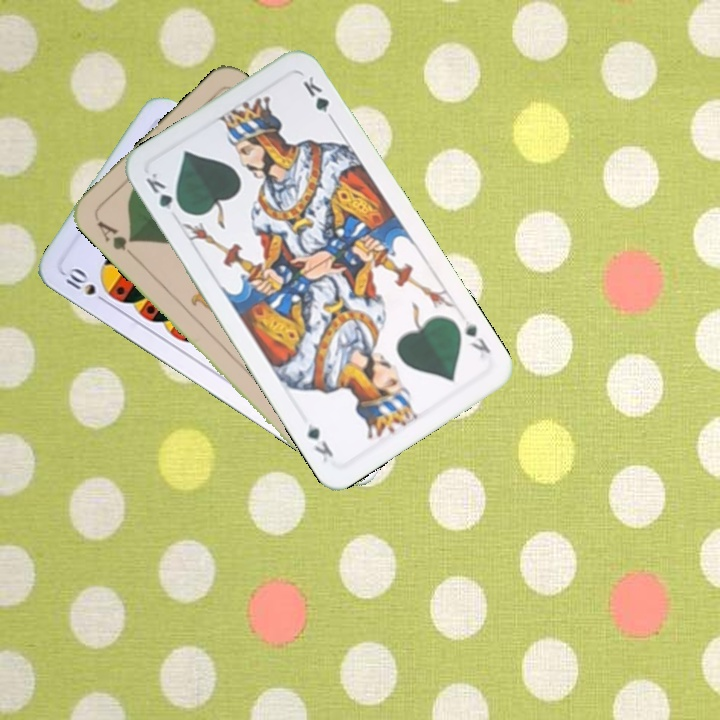GA: (92, 216, 139, 261)
GK: (141, 168, 187, 216), (460, 316, 493, 356)
S10: (59, 263, 111, 307)
